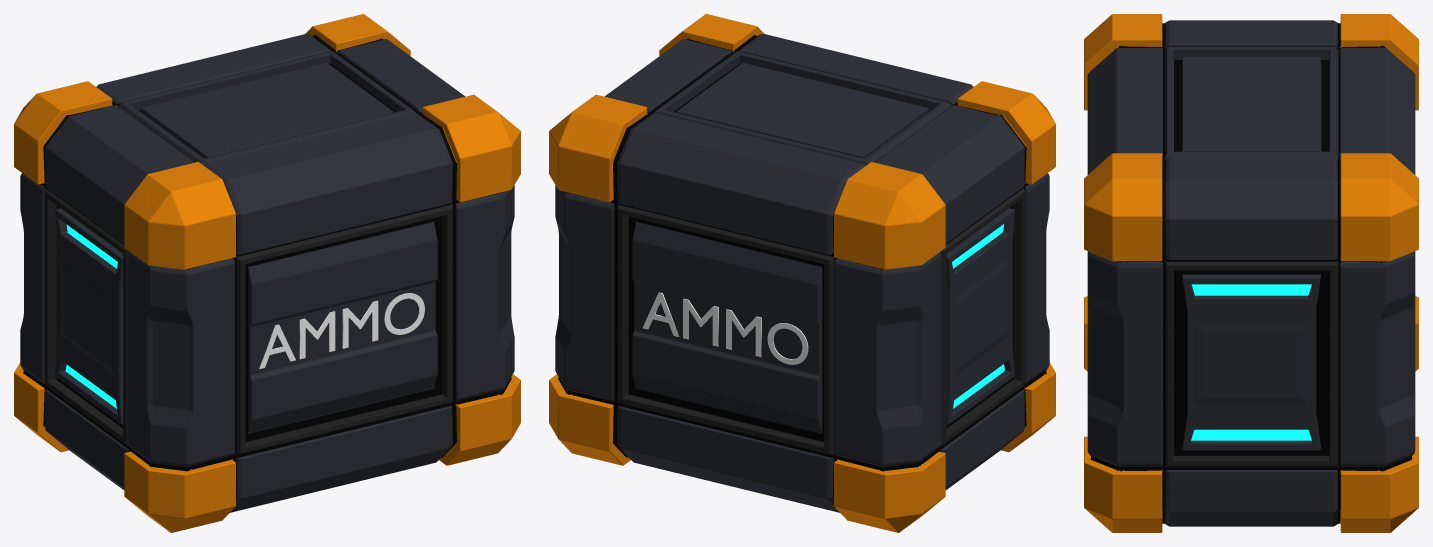
File: SM_Ammo_Box.fbx
The picture shows the model from 3 angles, left to right: view 1: azimuth 30°, elevation 25°; view 2: azimuth 150°, elevation 25°; view 3: azimuth 270°, elevation 25°; orthographic projection. The views are drawn at different scales.
Parts seen in each view (by area): view 1: SM_Ammo_Box; view 2: SM_Ammo_Box; view 3: SM_Ammo_Box.
Boxes of the visible parts, x1,y1,x2,y2 form: SM_Ammo_Box: [14, 14, 520, 532]; SM_Ammo_Box: [549, 14, 1055, 532]; SM_Ammo_Box: [1084, 14, 1418, 532].
Size of the model in its own units: 80 by 70 by 60.
